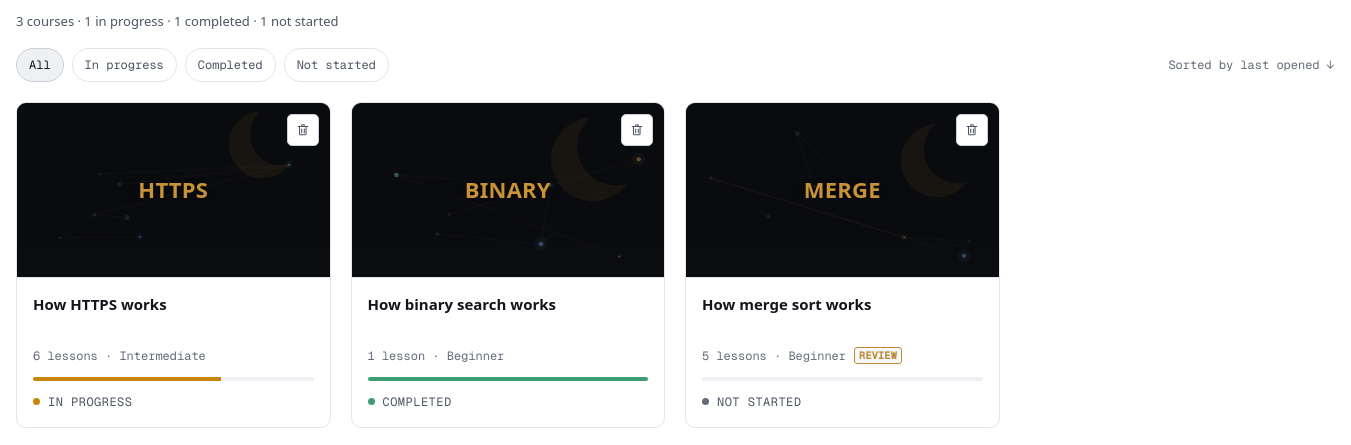
Test case: CourseLibrary › filters the grid by learner status via the pills
The image size is (1351, 445).
Expected: the link "HTTPS How HTTPS works 6 lessons · Intermediate IN PROGRESS" is shown, [16, 102, 330, 428]
Click the button "Completed": (230, 64) [185, 48, 276, 82]
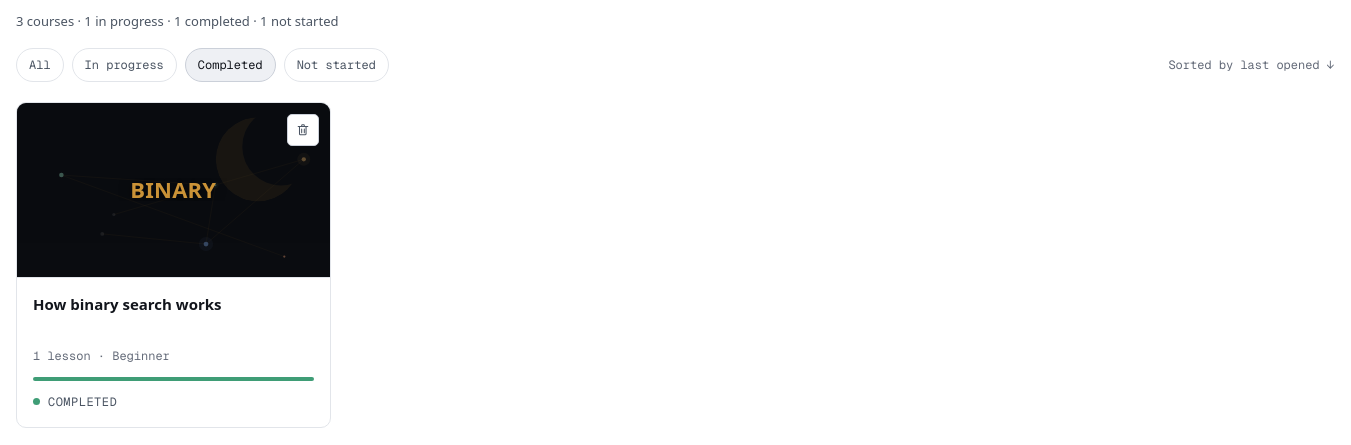
Expected: the link "binary How binary search works 1 lesson · Beginner COMPLETED" is shown, [16, 102, 330, 428]
Expected: the link "How HTTPS works" is gone
